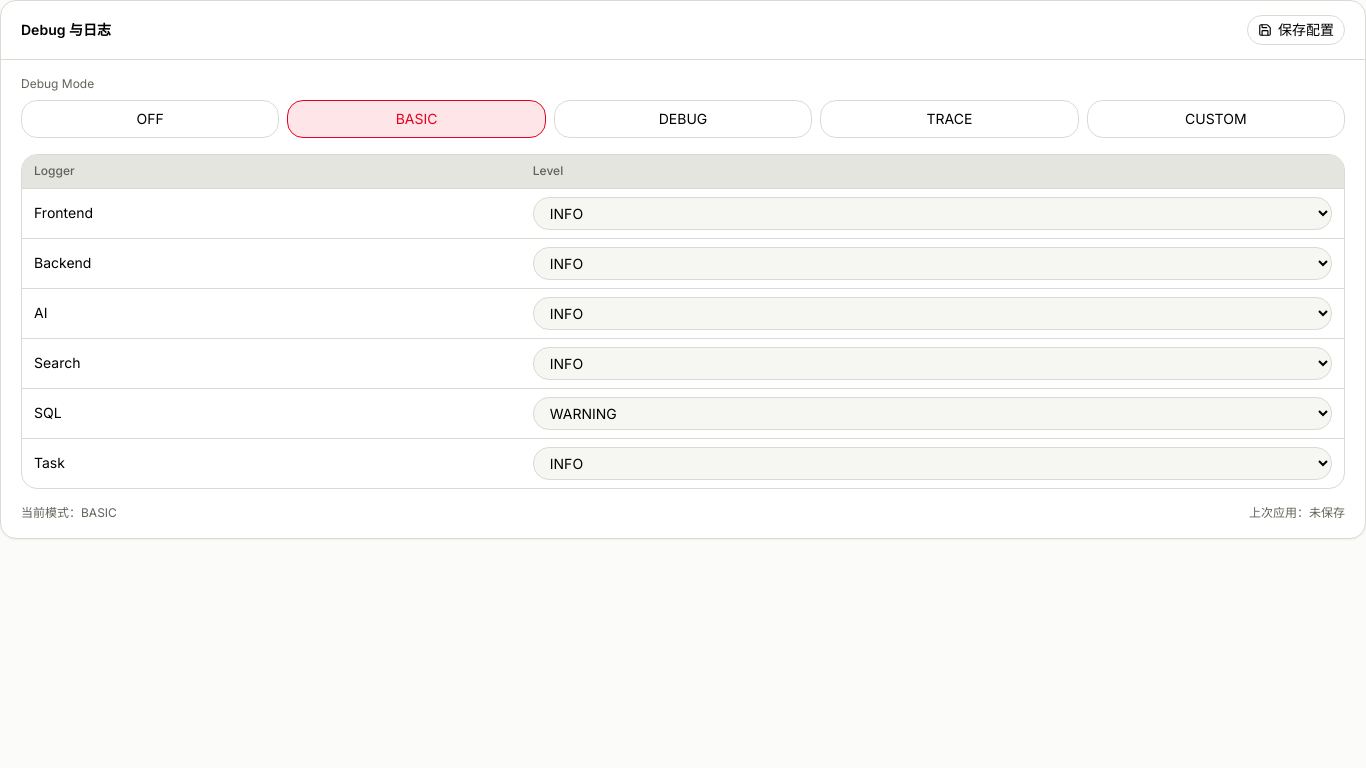
DebugLogSettingsCard › switches all selects to DEBUG when DEBUG mode is chosen
The width and height of the screenshot is (1366, 768).
Check: the text "当前模式：BASIC" is shown, box [21,505,117,522]
Click the button "DEBUG" at (683, 119), box [554,100,812,138]
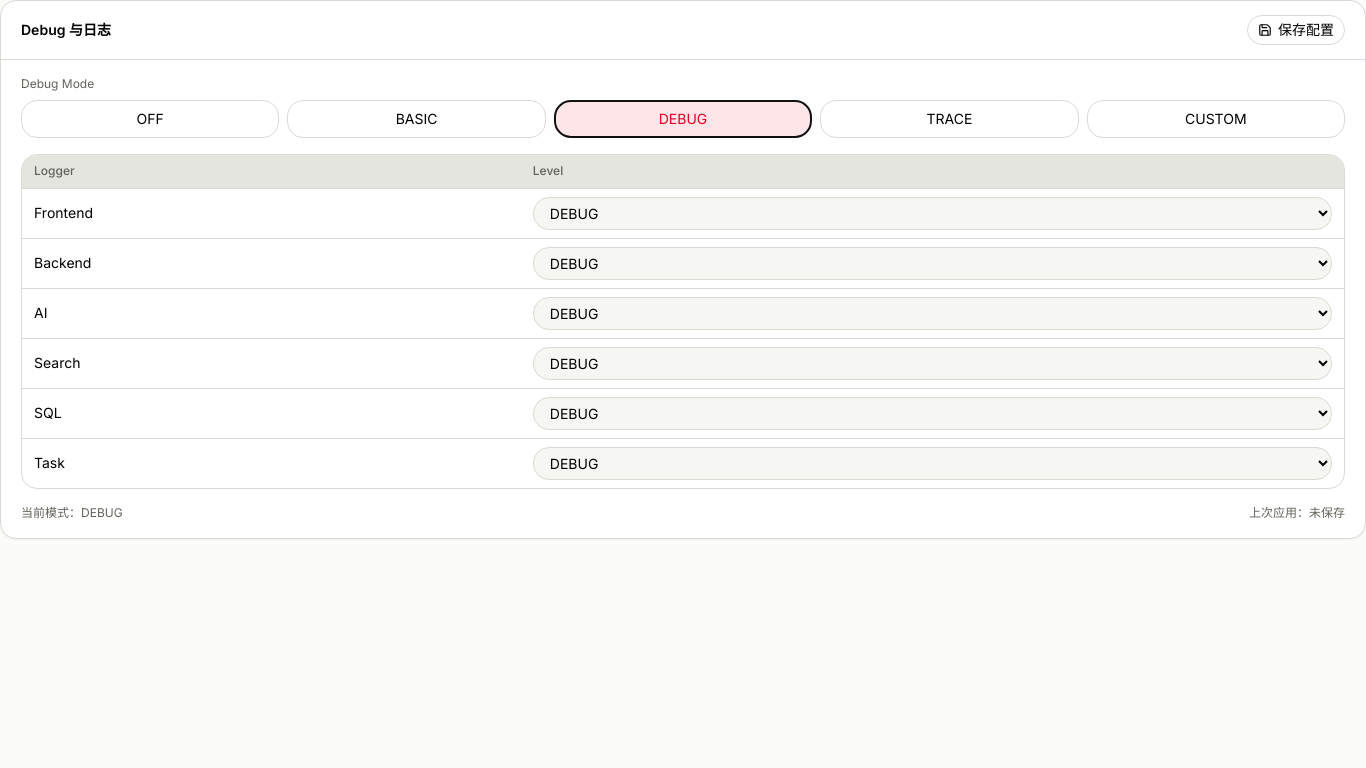
Check: the dropdown in the row of "Frontend" shows "DEBUG", box [533,197,1332,230]
Check: the dropdown in the row of "Backend" shows "DEBUG", box [533,247,1332,280]
Check: the dropdown in the row of "AI" shows "DEBUG", box [533,297,1332,330]
